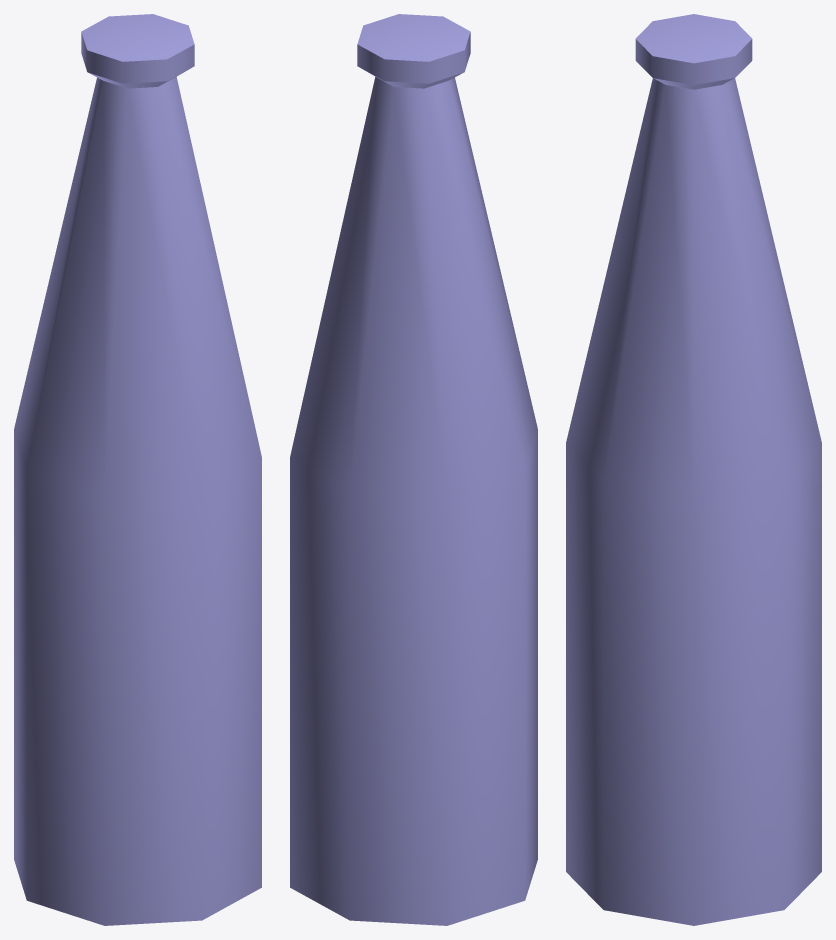
Rendered from env_Garrafa.fbx.
3 renders of one model, left to right at view 1: azimuth 30°, elevation 25°; view 2: azimuth 150°, elevation 25°; view 3: azimuth 270°, elevation 25°, orthographic.
Visible parts, largest first — view 1: env_Garrafa; view 2: env_Garrafa; view 3: env_Garrafa.
Part boxes in pixels (x1,y1,x2,y2): env_Garrafa: (14, 14, 261, 925); env_Garrafa: (290, 14, 537, 925); env_Garrafa: (566, 14, 821, 925).
Size of the model in its own units: 83 by 300 by 83.
